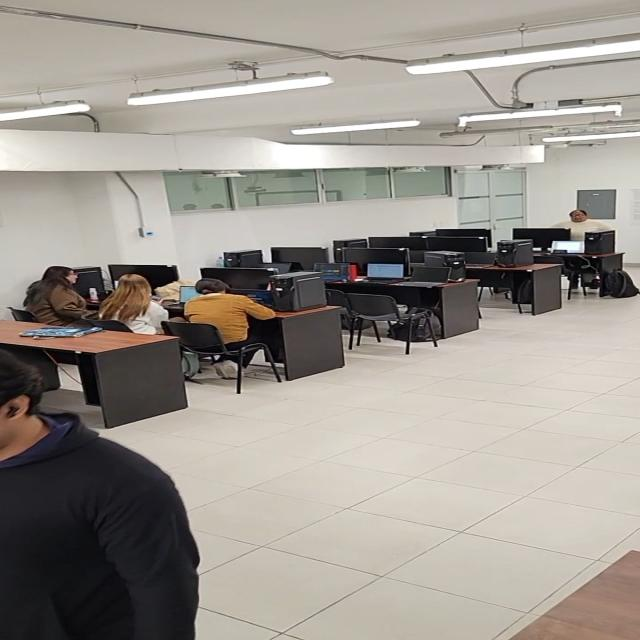Persona: (0, 343, 203, 640)
